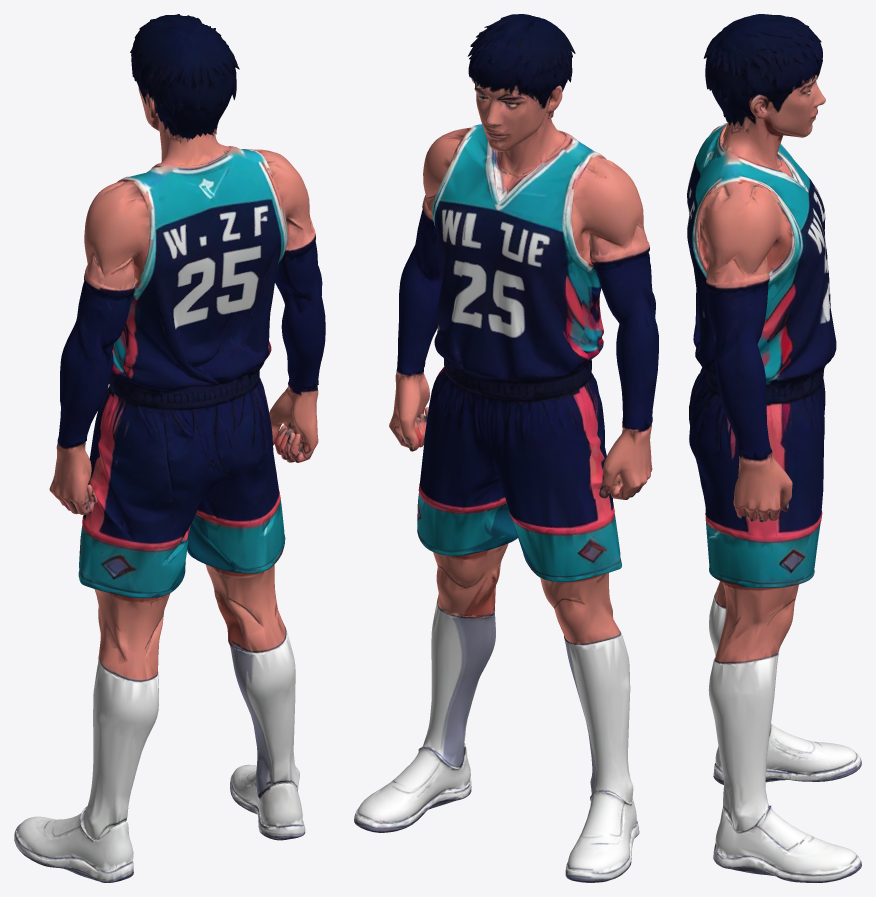
Rendered from model-lite.glb.
The picture shows the model from 3 angles, left to right: view 1: azimuth 30°, elevation 25°; view 2: azimuth 150°, elevation 25°; view 3: azimuth 270°, elevation 25°; orthographic projection. The views are drawn at different scales.
Parts seen in each view (by area): view 1: node_0; view 2: node_0; view 3: node_0.
Boxes of the visible parts, x1,y1,x2,y2 form: node_0: (14, 14, 325, 882); node_0: (354, 14, 658, 882); node_0: (687, 14, 861, 882).
Bounding box in the file's own units: 0.3821 × 1.14 × 0.2248.
1 material, 1 textured.
